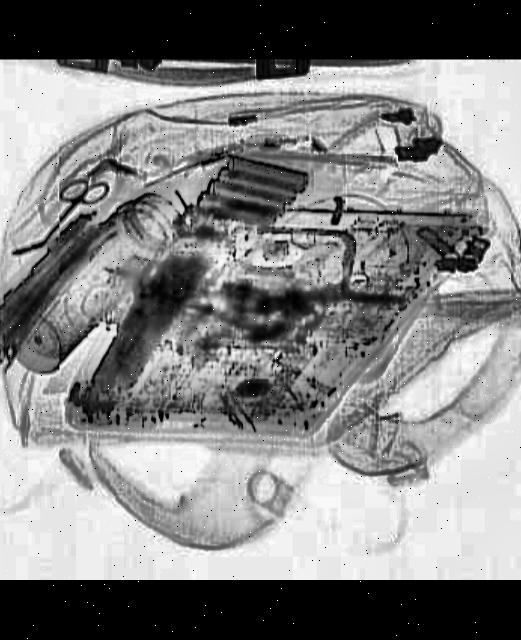Scissors: (27, 170, 114, 260)
